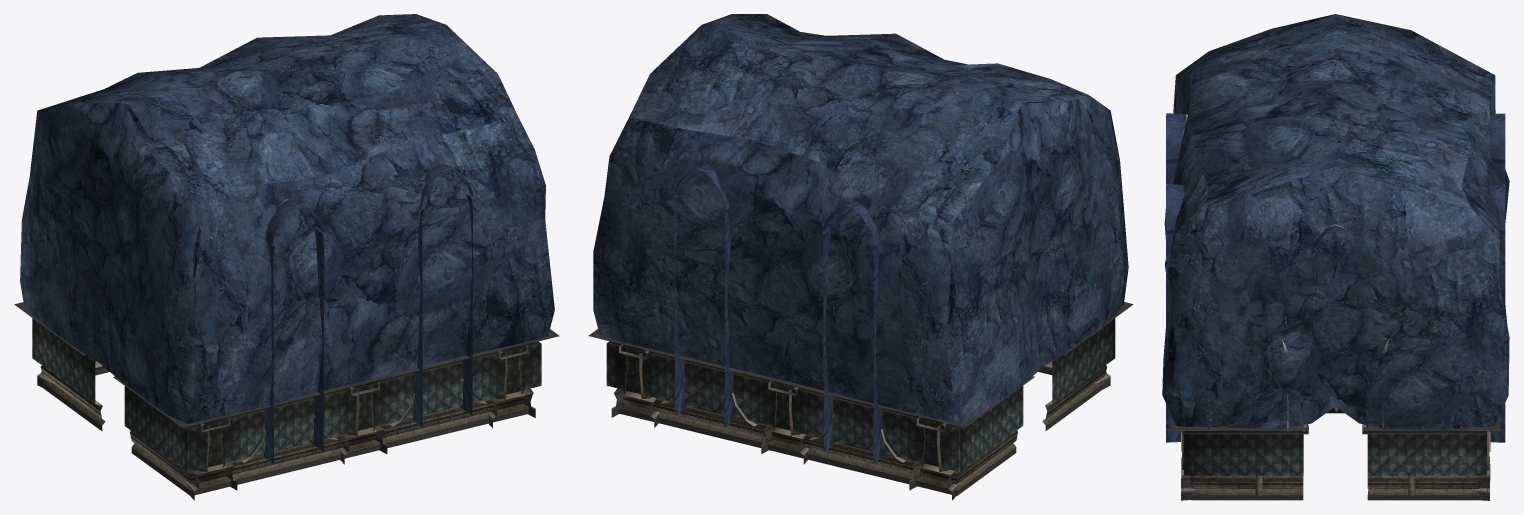
File: wall01.FBX
3 renders of one model, left to right at view 1: azimuth 30°, elevation 25°; view 2: azimuth 150°, elevation 25°; view 3: azimuth 270°, elevation 25°, orthographic. The views are drawn at different scales.
Parts seen in each view (by area): view 1: roof01, wi, pattern, Object034, Object035, Object033; view 2: roof01, wi, pattern, Object036, wall01, Object037; view 3: roof01, wi, pattern, Object036, Object035.
Part boxes in pixels (x1=…): roof01: x1=20, y1=14, x2=554, y2=424; wi: x1=14, y1=302, x2=559, y2=495; pattern: x1=123, y1=78, x2=486, y2=463; Object034: x1=339, y1=380, x2=387, y2=464; Object035: x1=487, y1=344, x2=535, y2=428; Object033: x1=186, y1=417, x2=237, y2=500; roof01: x1=593, y1=14, x2=1128, y2=423; wi: x1=588, y1=302, x2=1133, y2=495; pattern: x1=661, y1=164, x2=905, y2=463; Object036: x1=611, y1=344, x2=659, y2=427; wall01: x1=909, y1=417, x2=959, y2=500; Object037: x1=761, y1=380, x2=808, y2=464; roof01: x1=1162, y1=14, x2=1509, y2=431; wi: x1=1170, y1=414, x2=1500, y2=500; pattern: x1=1166, y1=113, x2=1505, y2=495; Object036: x1=1469, y1=430, x2=1490, y2=500; Object035: x1=1180, y1=430, x2=1196, y2=500.
Size of the model in its own units: 6614 by 5560 by 5315.
